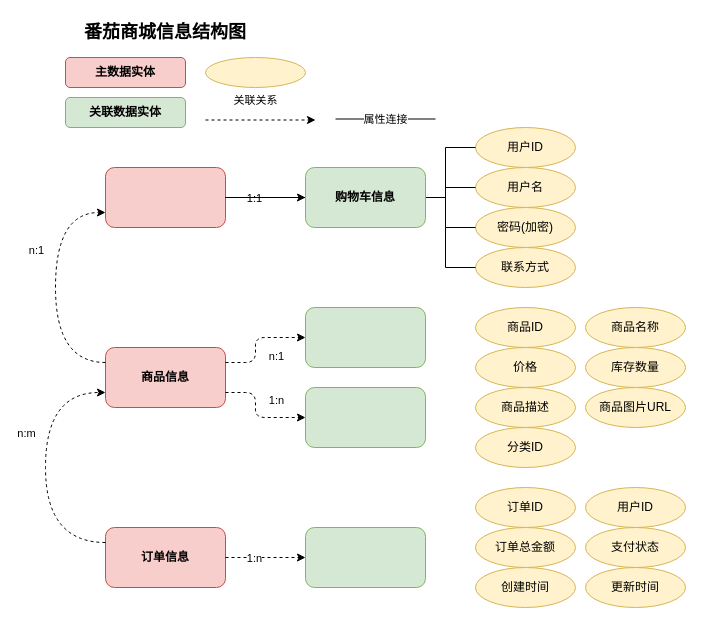
Some shapes in this 713 by 625 pixel diagram are drawn without their labels. Here are the shapes that lost their labels. From the top down, the box of each, then its label:
(204, 56, 306, 88): 属性
(104, 166, 226, 228): 用户信息
(304, 306, 426, 368): 商品评论信息
(304, 386, 426, 448): 商品分类信息
(304, 526, 426, 588): 优惠券信息
